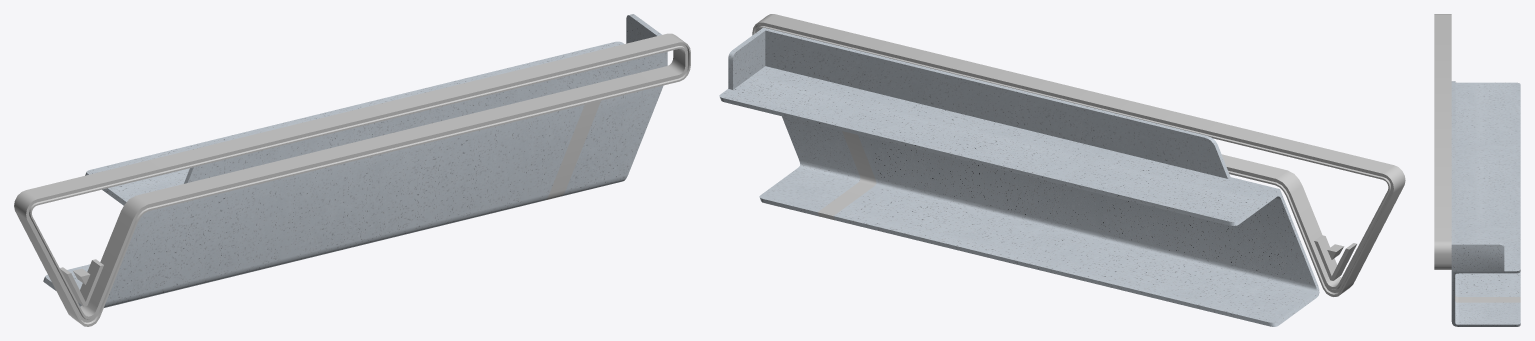
Rendered from D_DeskInfo_001.fbx.
3 renders of one model, left to right at view 1: azimuth 30°, elevation 25°; view 2: azimuth 150°, elevation 25°; view 3: azimuth 270°, elevation 25°, orthographic. The views are drawn at different scales.
Visible parts, largest first — view 1: D_DeskInfo_001; view 2: D_DeskInfo_001; view 3: D_DeskInfo_001.
Part boxes in pixels (bbox=[...]): D_DeskInfo_001: bbox=[14, 14, 690, 326]; D_DeskInfo_001: bbox=[719, 14, 1405, 326]; D_DeskInfo_001: bbox=[1434, 14, 1520, 326].
Size of the model in its own units: 6.13 by 1.24 by 0.9538.
